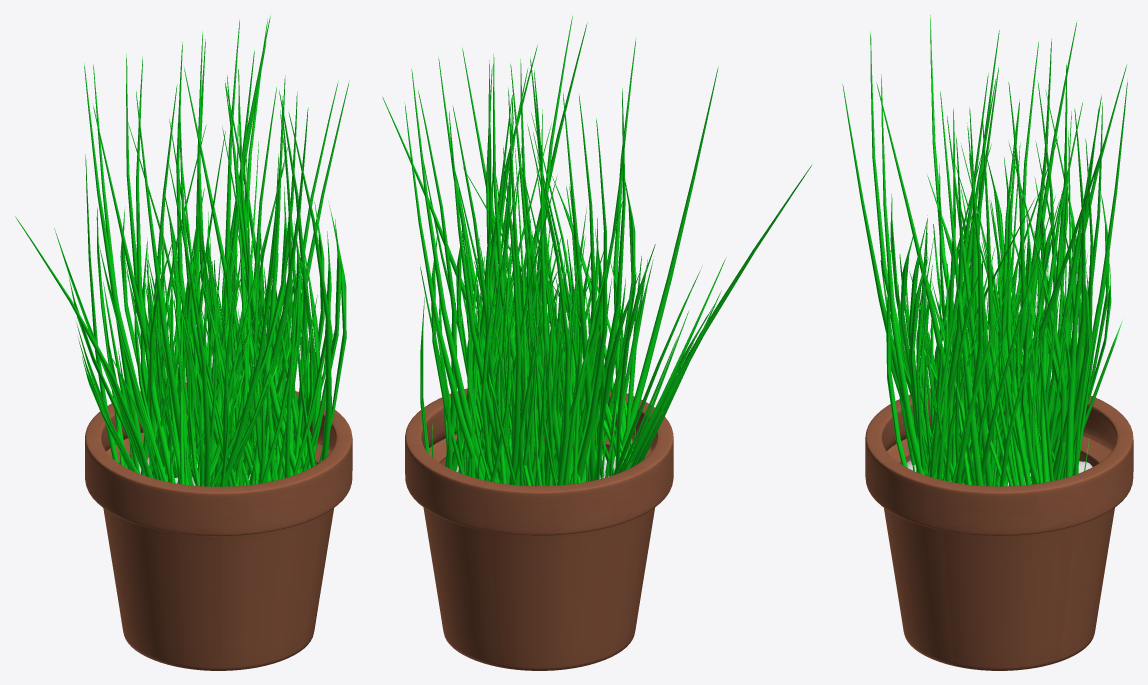
File: otumsal.fbx
3 renders of one model, left to right at view 1: azimuth 30°, elevation 25°; view 2: azimuth 150°, elevation 25°; view 3: azimuth 270°, elevation 25°, orthographic.
Visible parts, largest first — view 1: Chive / Herbs / Potted plant, Chive / Herbs / Potted plant.001; view 2: Chive / Herbs / Potted plant, Chive / Herbs / Potted plant.001; view 3: Chive / Herbs / Potted plant, Chive / Herbs / Potted plant.001.
Boxes of the visible parts, x1,y1,x2,y2 form: Chive / Herbs / Potted plant: [15, 14, 349, 486]; Chive / Herbs / Potted plant.001: [85, 382, 352, 670]; Chive / Herbs / Potted plant: [382, 16, 812, 485]; Chive / Herbs / Potted plant.001: [405, 388, 673, 670]; Chive / Herbs / Potted plant: [842, 15, 1127, 486]; Chive / Herbs / Potted plant.001: [865, 384, 1133, 670].
Bounding box in the file's own units: 15.13 × 23.24 × 10.73.
Materials: 3 (1 with a texture image).
